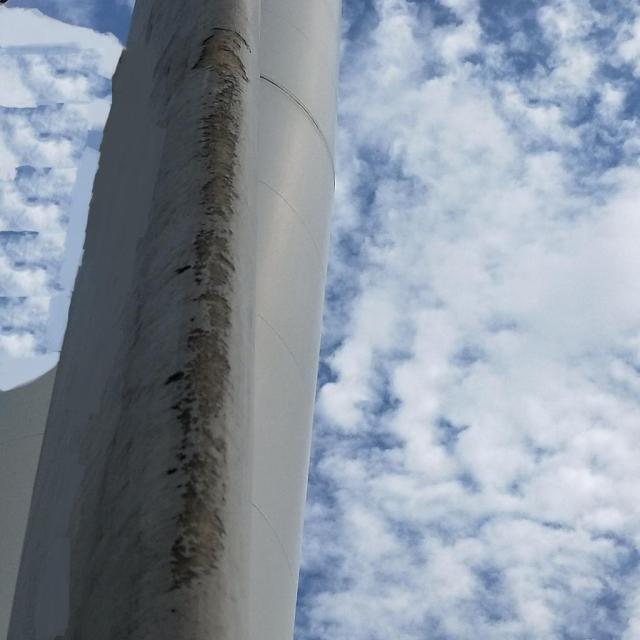corrosion: (144, 28, 248, 599)
